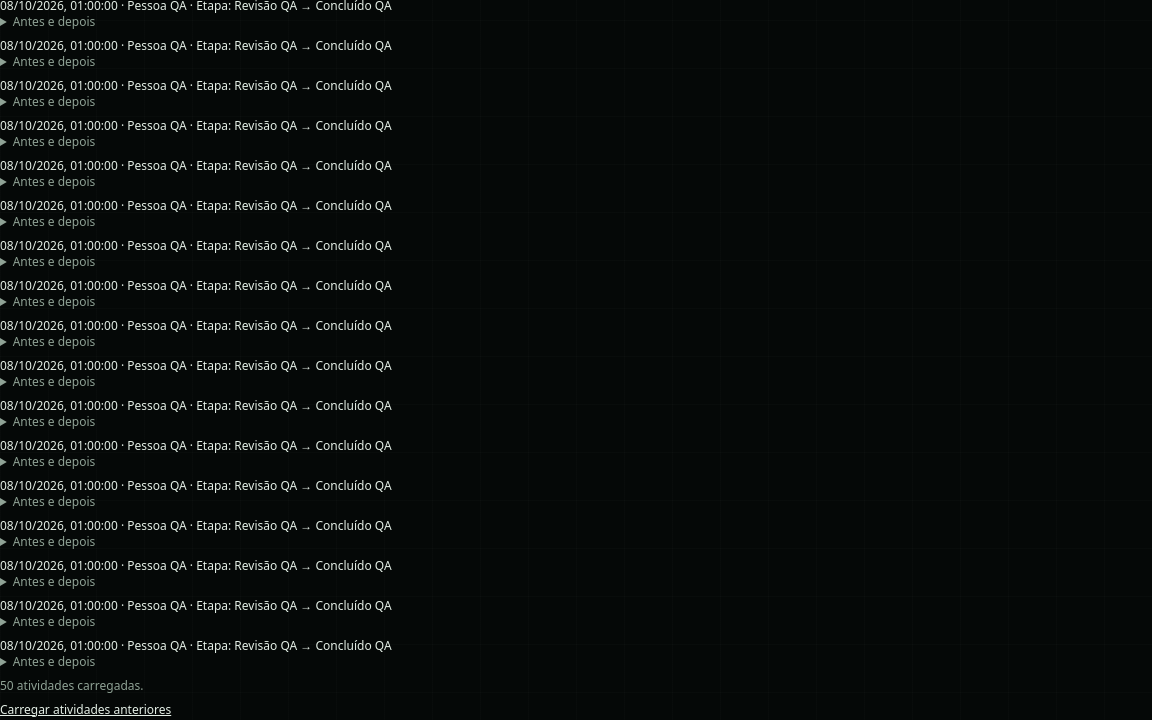
M02: atividade paginada da tarefa, API simulada › recusa401 na página seguinte retira as atividades privadas
The image size is (1152, 720).
(page scrolled)
Check: the text "50 atividades carregadas." is shown, box [0,676,144,694]
Click the button "Carregar atividades anteriores" at (86, 710), box [0,702,171,718]
(page scrolled)
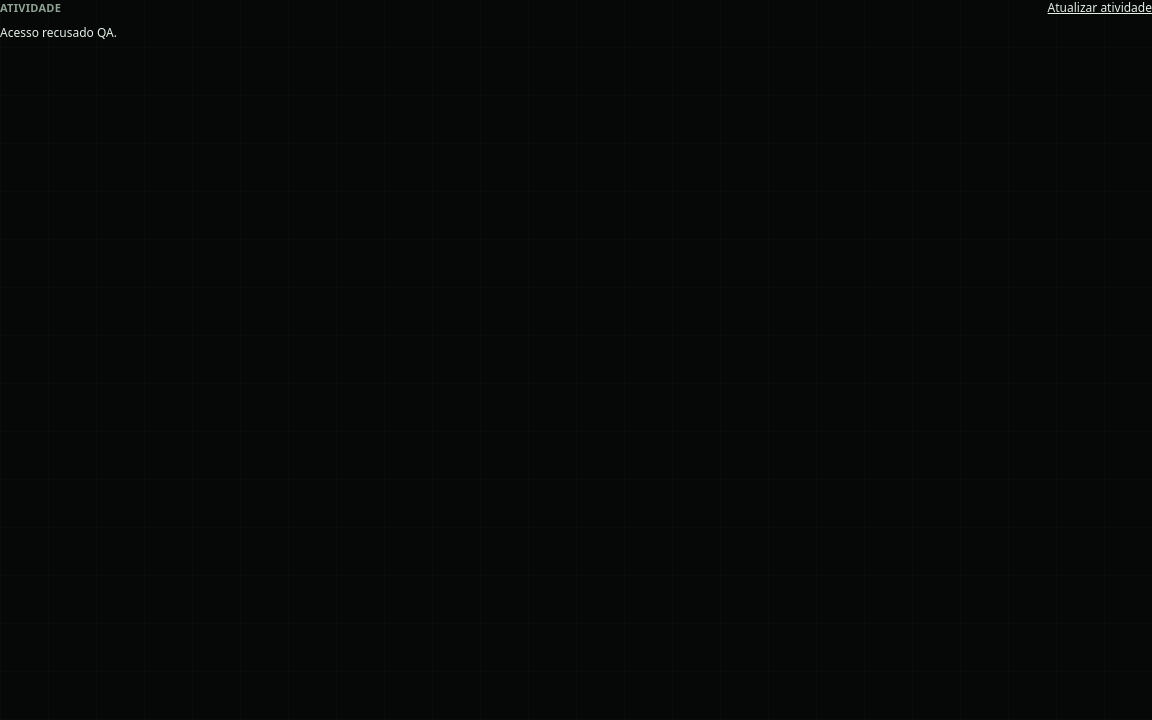
Check: the text "Acesso recusado QA." is shown, box [0,24,117,40]
Check: the text "50 atividades carregadas." is gone
